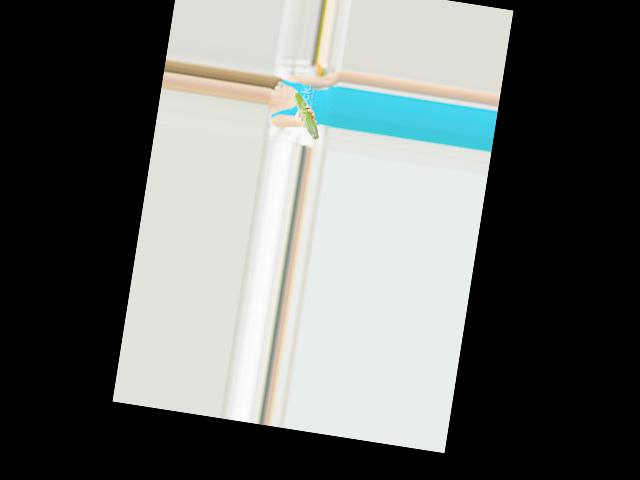cucumber: (288, 92, 325, 139)
